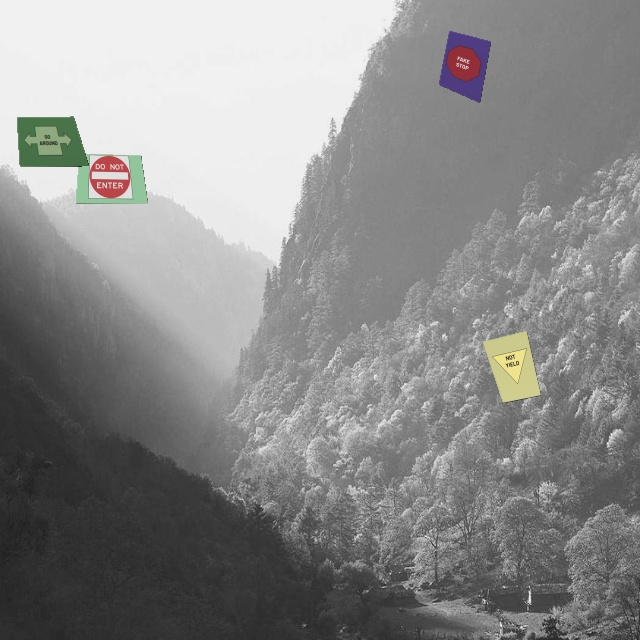DO_NOT_ENTER: (88, 155, 133, 199)
FAKE_STOP: (444, 42, 483, 86)
GO_AROUND: (23, 126, 76, 156)
NOT_YIELD: (492, 348, 535, 387)
